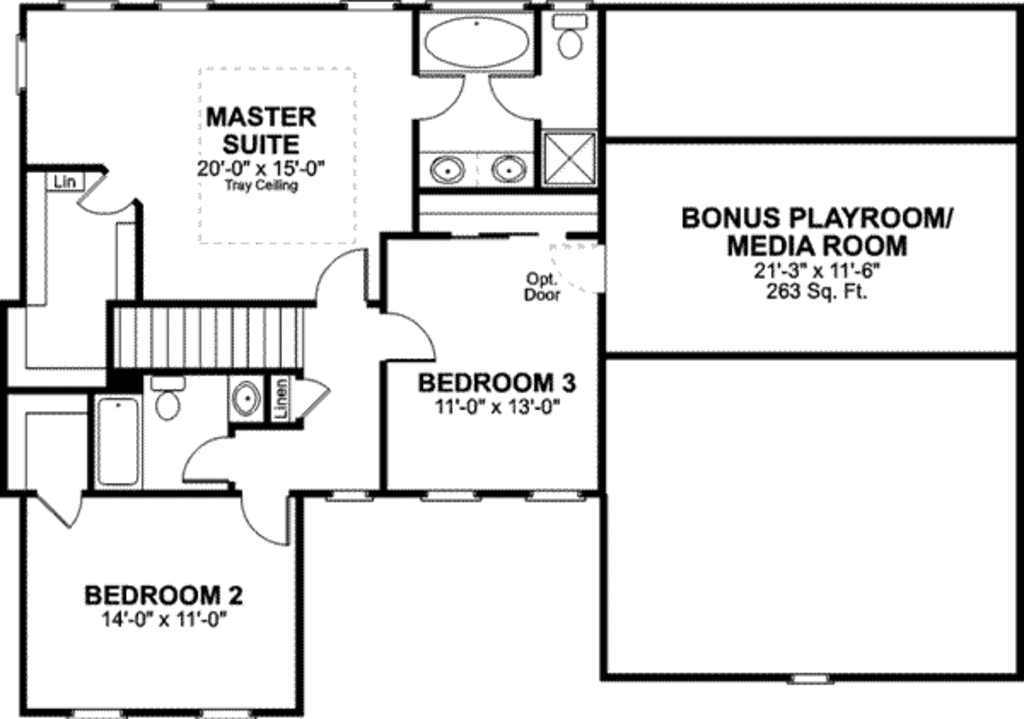door: (311, 242, 374, 302), (235, 488, 291, 551), (381, 310, 440, 369), (173, 434, 235, 487), (70, 167, 130, 218), (36, 484, 84, 531), (298, 373, 331, 421)
large_sink: (536, 9, 593, 66), (148, 371, 192, 424)
small_sink: (420, 148, 535, 195)
stairs: (105, 300, 314, 378)
tub: (417, 12, 541, 74), (93, 388, 148, 495)
windows: (322, 482, 586, 511), (778, 671, 835, 692)
